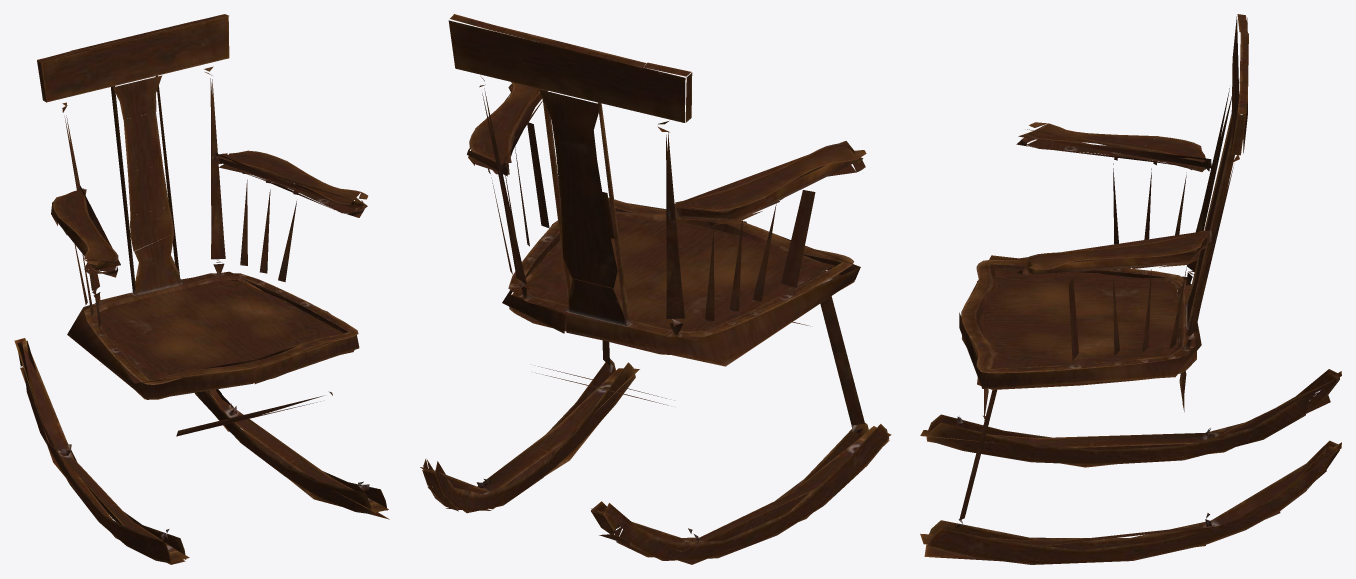
The model's file is ph_Rockingchair_01.glb.
3 renders of one model, left to right at view 1: azimuth 30°, elevation 25°; view 2: azimuth 150°, elevation 25°; view 3: azimuth 270°, elevation 25°, orthographic. The views are drawn at different scales.
Visible parts, largest first — view 1: Rockingchair_01; view 2: Rockingchair_01; view 3: Rockingchair_01.
Part boxes in pixels (left/top/right/bottom): Rockingchair_01: left=14, top=14, right=389, bottom=564; Rockingchair_01: left=420, top=14, right=891, bottom=564; Rockingchair_01: left=920, top=14, right=1341, bottom=564.
Size of the model in its own units: 0.7049 by 1.01 by 0.8517.
Materials: 1 (1 with a texture image).
